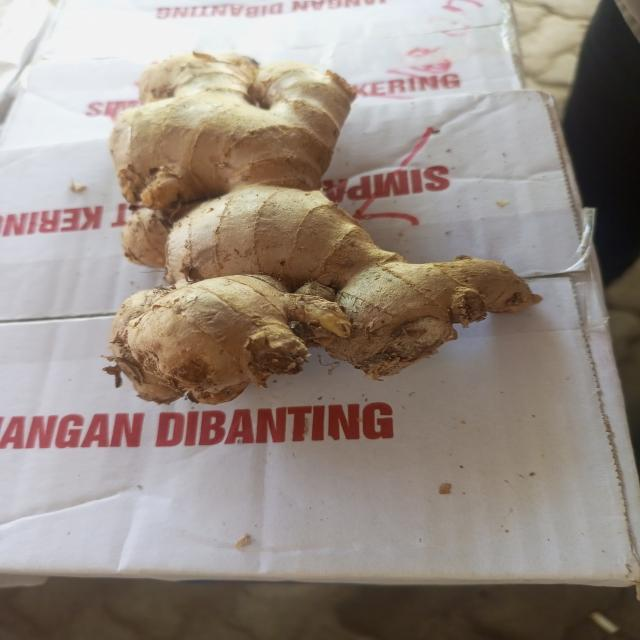ginger: (115, 54, 525, 386)
